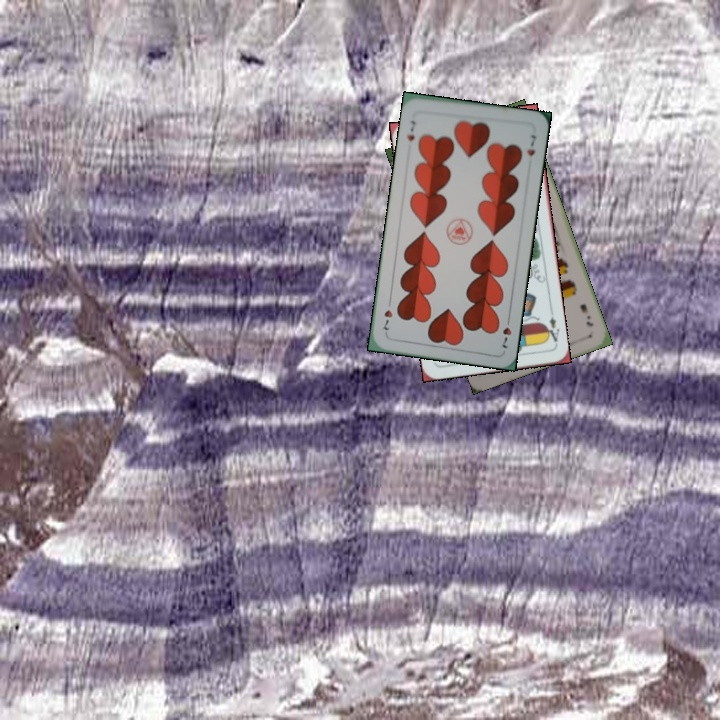E7: (576, 300, 596, 329)
EA: (541, 312, 562, 348)
H7: (498, 312, 514, 352), (403, 116, 418, 144)
